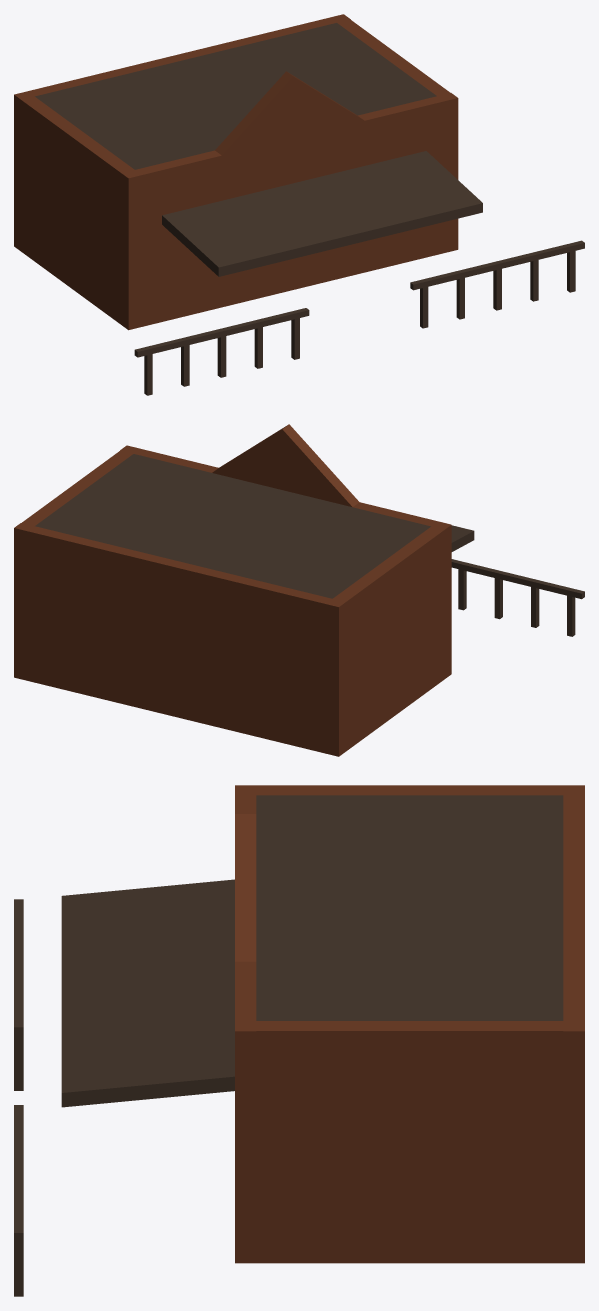
File: CenterHouse.fbx
The picture shows the model from 3 angles, top to bottom: view 1: azimuth 30°, elevation 25°; view 2: azimuth 150°, elevation 25°; view 3: azimuth 270°, elevation 25°; orthographic projection. The views are drawn at different scales.
Visible parts, largest first — view 1: Box012, Plane008, Plane009, Box013, Box015, Box016, Box008, Box014; view 2: Box015, Plane008, Box013, Box012, Box016, Box014, Plane009; view 3: Box014, Plane008, Plane009, Box015, Box012, Box013, Box008, Box016.
Part boxes in pixels (x1,y1,x2,y2): Box012: [121, 71, 458, 330]; Plane008: [35, 23, 436, 169]; Plane009: [162, 151, 482, 276]; Box013: [21, 96, 134, 324]; Box015: [14, 14, 350, 251]; Box016: [134, 308, 309, 395]; Box008: [410, 240, 584, 328]; Box014: [337, 19, 450, 95]; Box015: [14, 523, 345, 756]; Plane008: [35, 454, 430, 598]; Box013: [333, 526, 444, 751]; Box012: [120, 424, 451, 678]; Box016: [451, 559, 584, 636]; Box014: [22, 450, 133, 525]; Plane009: [451, 525, 474, 551]; Box014: [256, 1021, 563, 1263]; Plane008: [256, 795, 563, 1020]; Plane009: [61, 879, 234, 1107]; Box015: [563, 785, 584, 1263]; Box012: [235, 785, 256, 1263]; Box013: [256, 785, 563, 795]; Box008: [14, 1105, 23, 1296]; Box016: [14, 899, 23, 1090].
Size of the model in its own units: 827 by 377 by 598.
